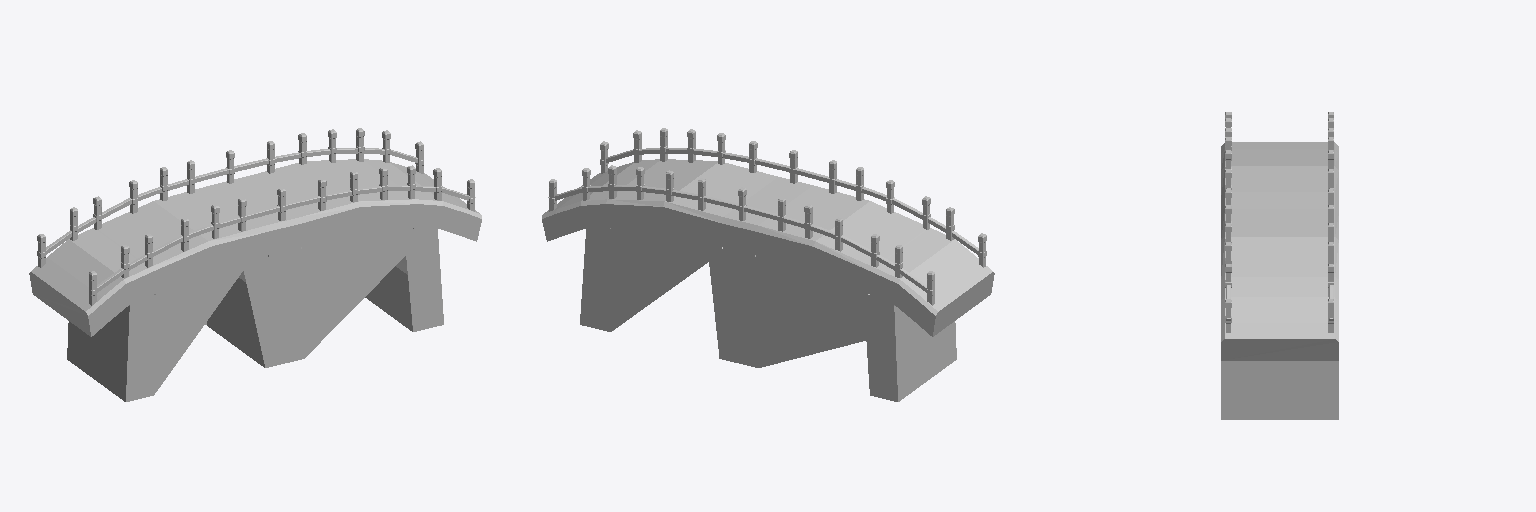
Rendered from Bridge 1.obj.
3 views of the same model, side by side, from view 1: azimuth 30°, elevation 25°; view 2: azimuth 150°, elevation 25°; view 3: azimuth 270°, elevation 25° (orthographic).
Parts seen in each view (by area): view 1: group1 pCube3, group1 pCube21, group1 pCube34; view 2: group1 pCube3, group1 pCube34, group1 pCube21; view 3: group1 pCube3.
Part boxes in pixels (bbox=[...]): group1 pCube3: bbox=[29, 159, 481, 401]; group1 pCube21: bbox=[97, 185, 475, 292]; group1 pCube34: bbox=[46, 148, 417, 254]; group1 pCube3: bbox=[542, 159, 994, 401]; group1 pCube34: bbox=[548, 185, 926, 292]; group1 pCube21: bbox=[600, 148, 978, 254]; group1 pCube3: bbox=[1221, 142, 1338, 419].
Bounding box in the file's own units: 1.06 × 0.4406 × 0.2727.